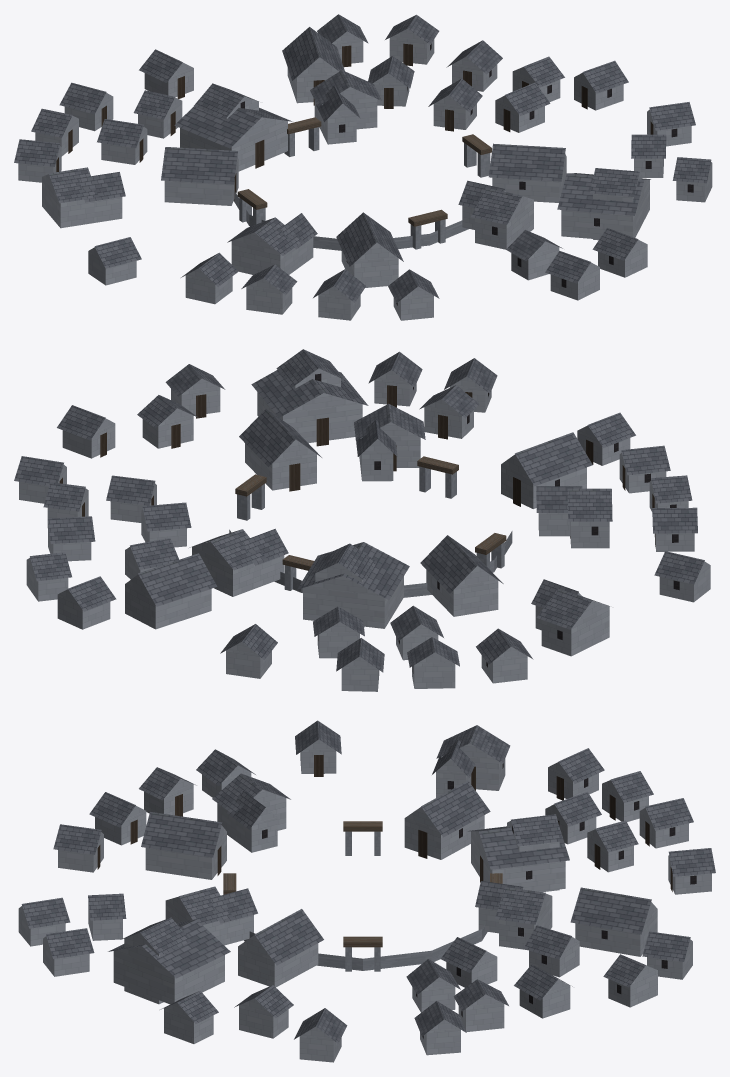
File: ae_snow_neighbourhood_stone_lod2.glb
3 views of the same model, one above another, from view 1: azimuth 30°, elevation 25°; view 2: azimuth 150°, elevation 25°; view 3: azimuth 270°, elevation 25° (orthographic). The views are drawn at different scales.
Visible parts, largest first — view 1: ae_snow_neighbourhood_stone_lod2; view 2: ae_snow_neighbourhood_stone_lod2; view 3: ae_snow_neighbourhood_stone_lod2.
Boxes of the visible parts, <box> form: ae_snow_neighbourhood_stone_lod2: <box>14,14,712,320</box>; ae_snow_neighbourhood_stone_lod2: <box>14,349,710,691</box>; ae_snow_neighbourhood_stone_lod2: <box>18,720,715,1062</box>.
Size of the model in its own units: 1.89 by 0.1882 by 1.82.
Materials: 1 (1 with a texture image).
